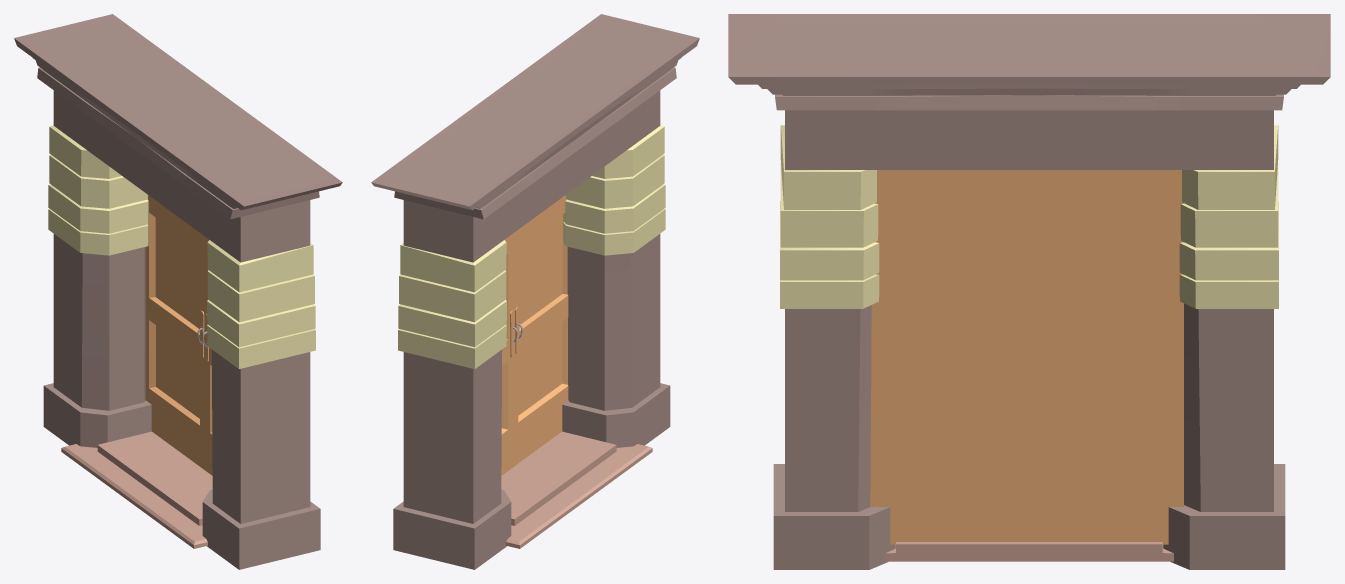
The model's file is door.fbx.
3 views of the same model, side by side, from view 1: azimuth 30°, elevation 25°; view 2: azimuth 150°, elevation 25°; view 3: azimuth 270°, elevation 25° (orthographic). The views are drawn at different scales.
Visible parts, largest first — view 1: door_frame, door_01, dorr_stair, door_02; view 2: door_frame, door_02, dorr_stair, door_01; view 3: door_frame, door_01, door_02, dorr_stair.
Part boxes in pixels (x1,y1,x2,y2): door_frame: (14, 14, 342, 569); door_01: (145, 195, 205, 469); dorr_stair: (61, 431, 212, 548); door_02: (204, 236, 212, 475); door_frame: (371, 14, 699, 569); door_02: (513, 195, 568, 466); dorr_stair: (501, 431, 652, 548); door_01: (501, 233, 513, 475); door_frame: (728, 14, 1330, 569); door_01: (1023, 170, 1183, 544); door_02: (870, 170, 1024, 544); dorr_stair: (885, 542, 1173, 561).
Bounding box in the file's own units: 2.29 × 8.26 × 9.09.
